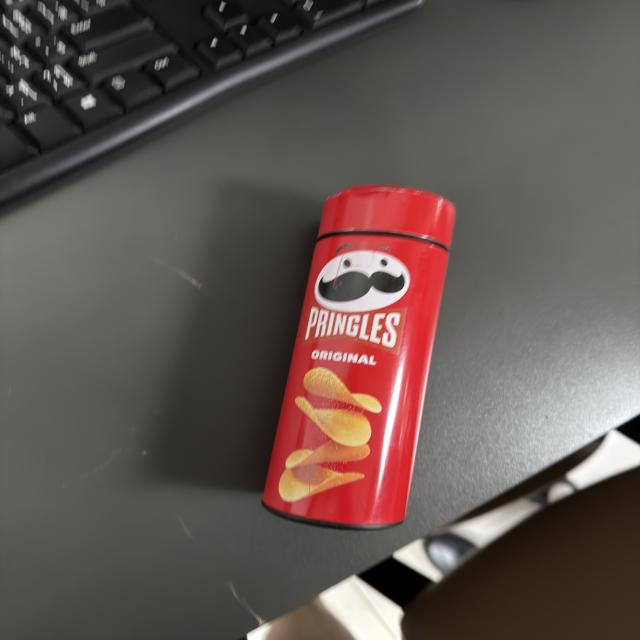water bottle: (262, 185, 455, 529)
